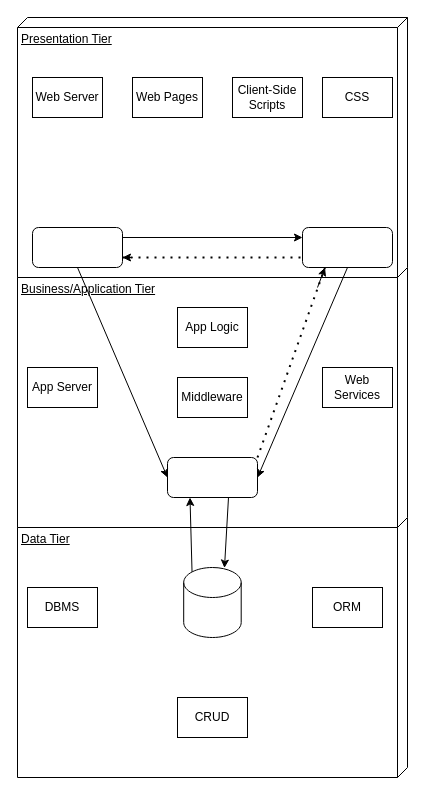
This 425x795 diagram has some shape labels left out. The centre of each missing label's shape, as x and y in pixels:
Controller: the point at 77,247
Database: the point at 212,602
Model: the point at 212,477
View: the point at 347,247
